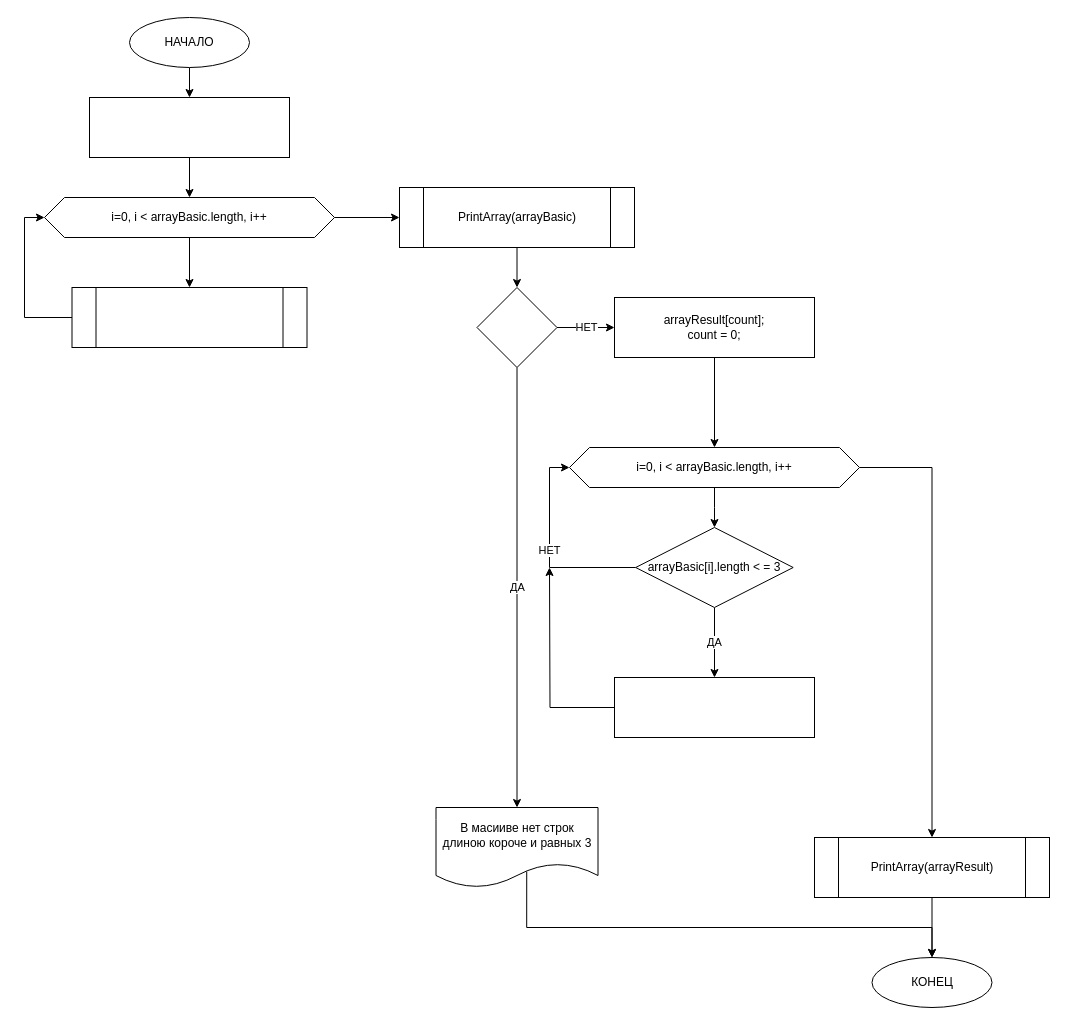
Image size: 1067x1025. Some labels were removed from this diagram. The shapes that lost their labels are listed below. From the top down, each one's centre as x and y in pixels, then its label:
point 189,127: rand = new Random(); count = 0; arrayBasic[random(2..10];
point 189,317: generateWord(arraBasic[i])
point 516,327: count = 0
point 714,707: arrayResult[count] = arrayBasic[i]; count++;
